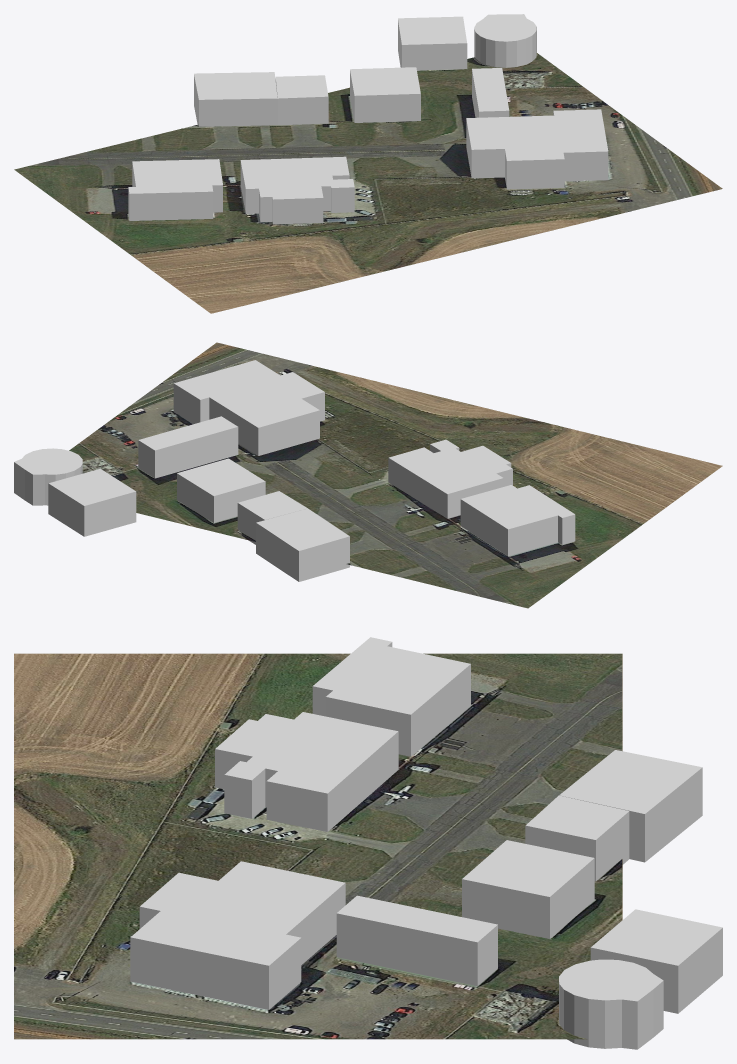
The model's file is V1_world_collisions_no_conductors.dae.
3 renders of one model, top to bottom at view 1: azimuth 30°, elevation 25°; view 2: azimuth 150°, elevation 25°; view 3: azimuth 270°, elevation 25°, orthographic. The views are drawn at different scales.
Visible parts, largest first — view 1: EXPORT_GOOGLE_SAT_WM, Areas:building.001, Areas:building.002; view 2: EXPORT_GOOGLE_SAT_WM, Areas:building.001, Areas:building.002; view 3: EXPORT_GOOGLE_SAT_WM, Areas:building.001, Areas:building.002.
Part boxes in pixels (x1,y1,x2,y2): EXPORT_GOOGLE_SAT_WM: [14, 53, 722, 313]; Areas:building.001: [128, 14, 608, 220]; Areas:building.002: [240, 156, 354, 224]; EXPORT_GOOGLE_SAT_WM: [69, 342, 722, 608]; Areas:building.001: [14, 360, 575, 581]; Areas:building.002: [388, 439, 512, 518]; EXPORT_GOOGLE_SAT_WM: [14, 653, 622, 1039]; Areas:building.001: [130, 637, 722, 1049]; Areas:building.002: [215, 712, 398, 831].
Size of what is drawn, in the model's own units: 195 by 150 by 12.35.
1 material, 1 textured.
